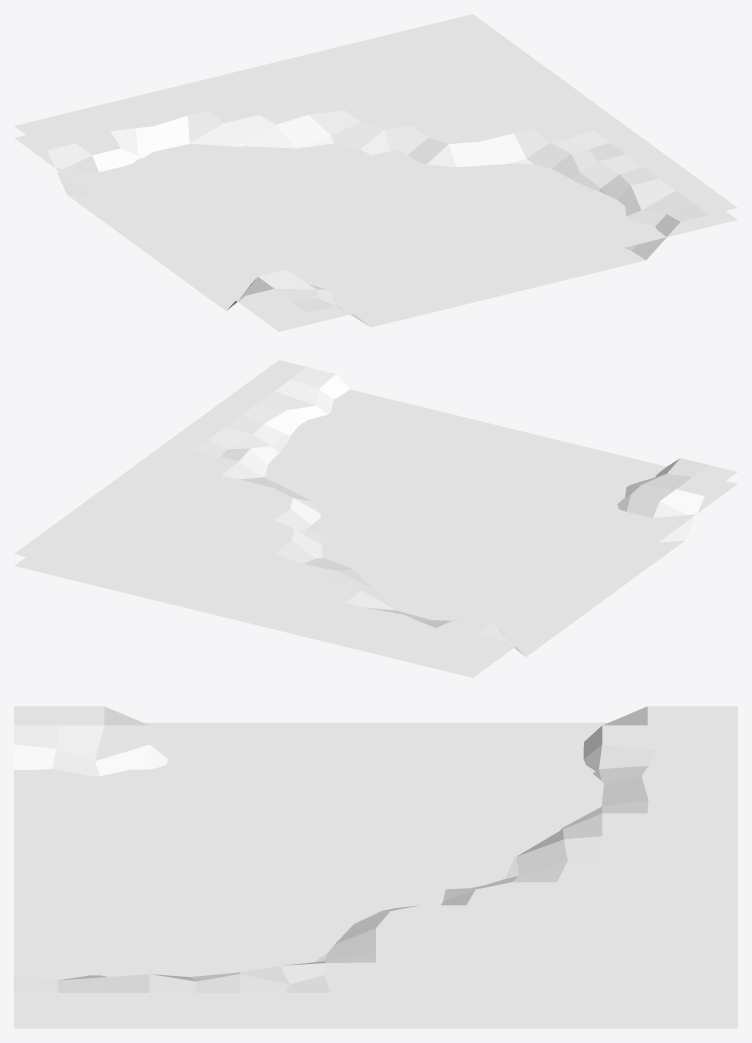
Rendered from ground.river.bend.glb.
3 views of the same model, one above another, from view 1: azimuth 30°, elevation 25°; view 2: azimuth 150°, elevation 25°; view 3: azimuth 270°, elevation 25° (orthographic). The views are drawn at different scales.
Visible parts, largest first — view 1: ground.river.bend, ground.river.water.bend; view 2: ground.river.water.bend, ground.river.bend; view 3: ground.river.water.bend, ground.river.bend.
Boxes of the visible parts, x1,y1,x2,y2 form: ground.river.bend: (14, 14, 737, 327); ground.river.water.bend: (14, 135, 737, 331); ground.river.water.bend: (14, 389, 737, 677); ground.river.bend: (14, 360, 737, 665); ground.river.water.bend: (14, 722, 737, 1028); ground.river.bend: (14, 706, 737, 1012).
Size of what is drawn, in the model's own units: 4 by 0.25 by 4.
Materials: 1 (1 with a texture image).
